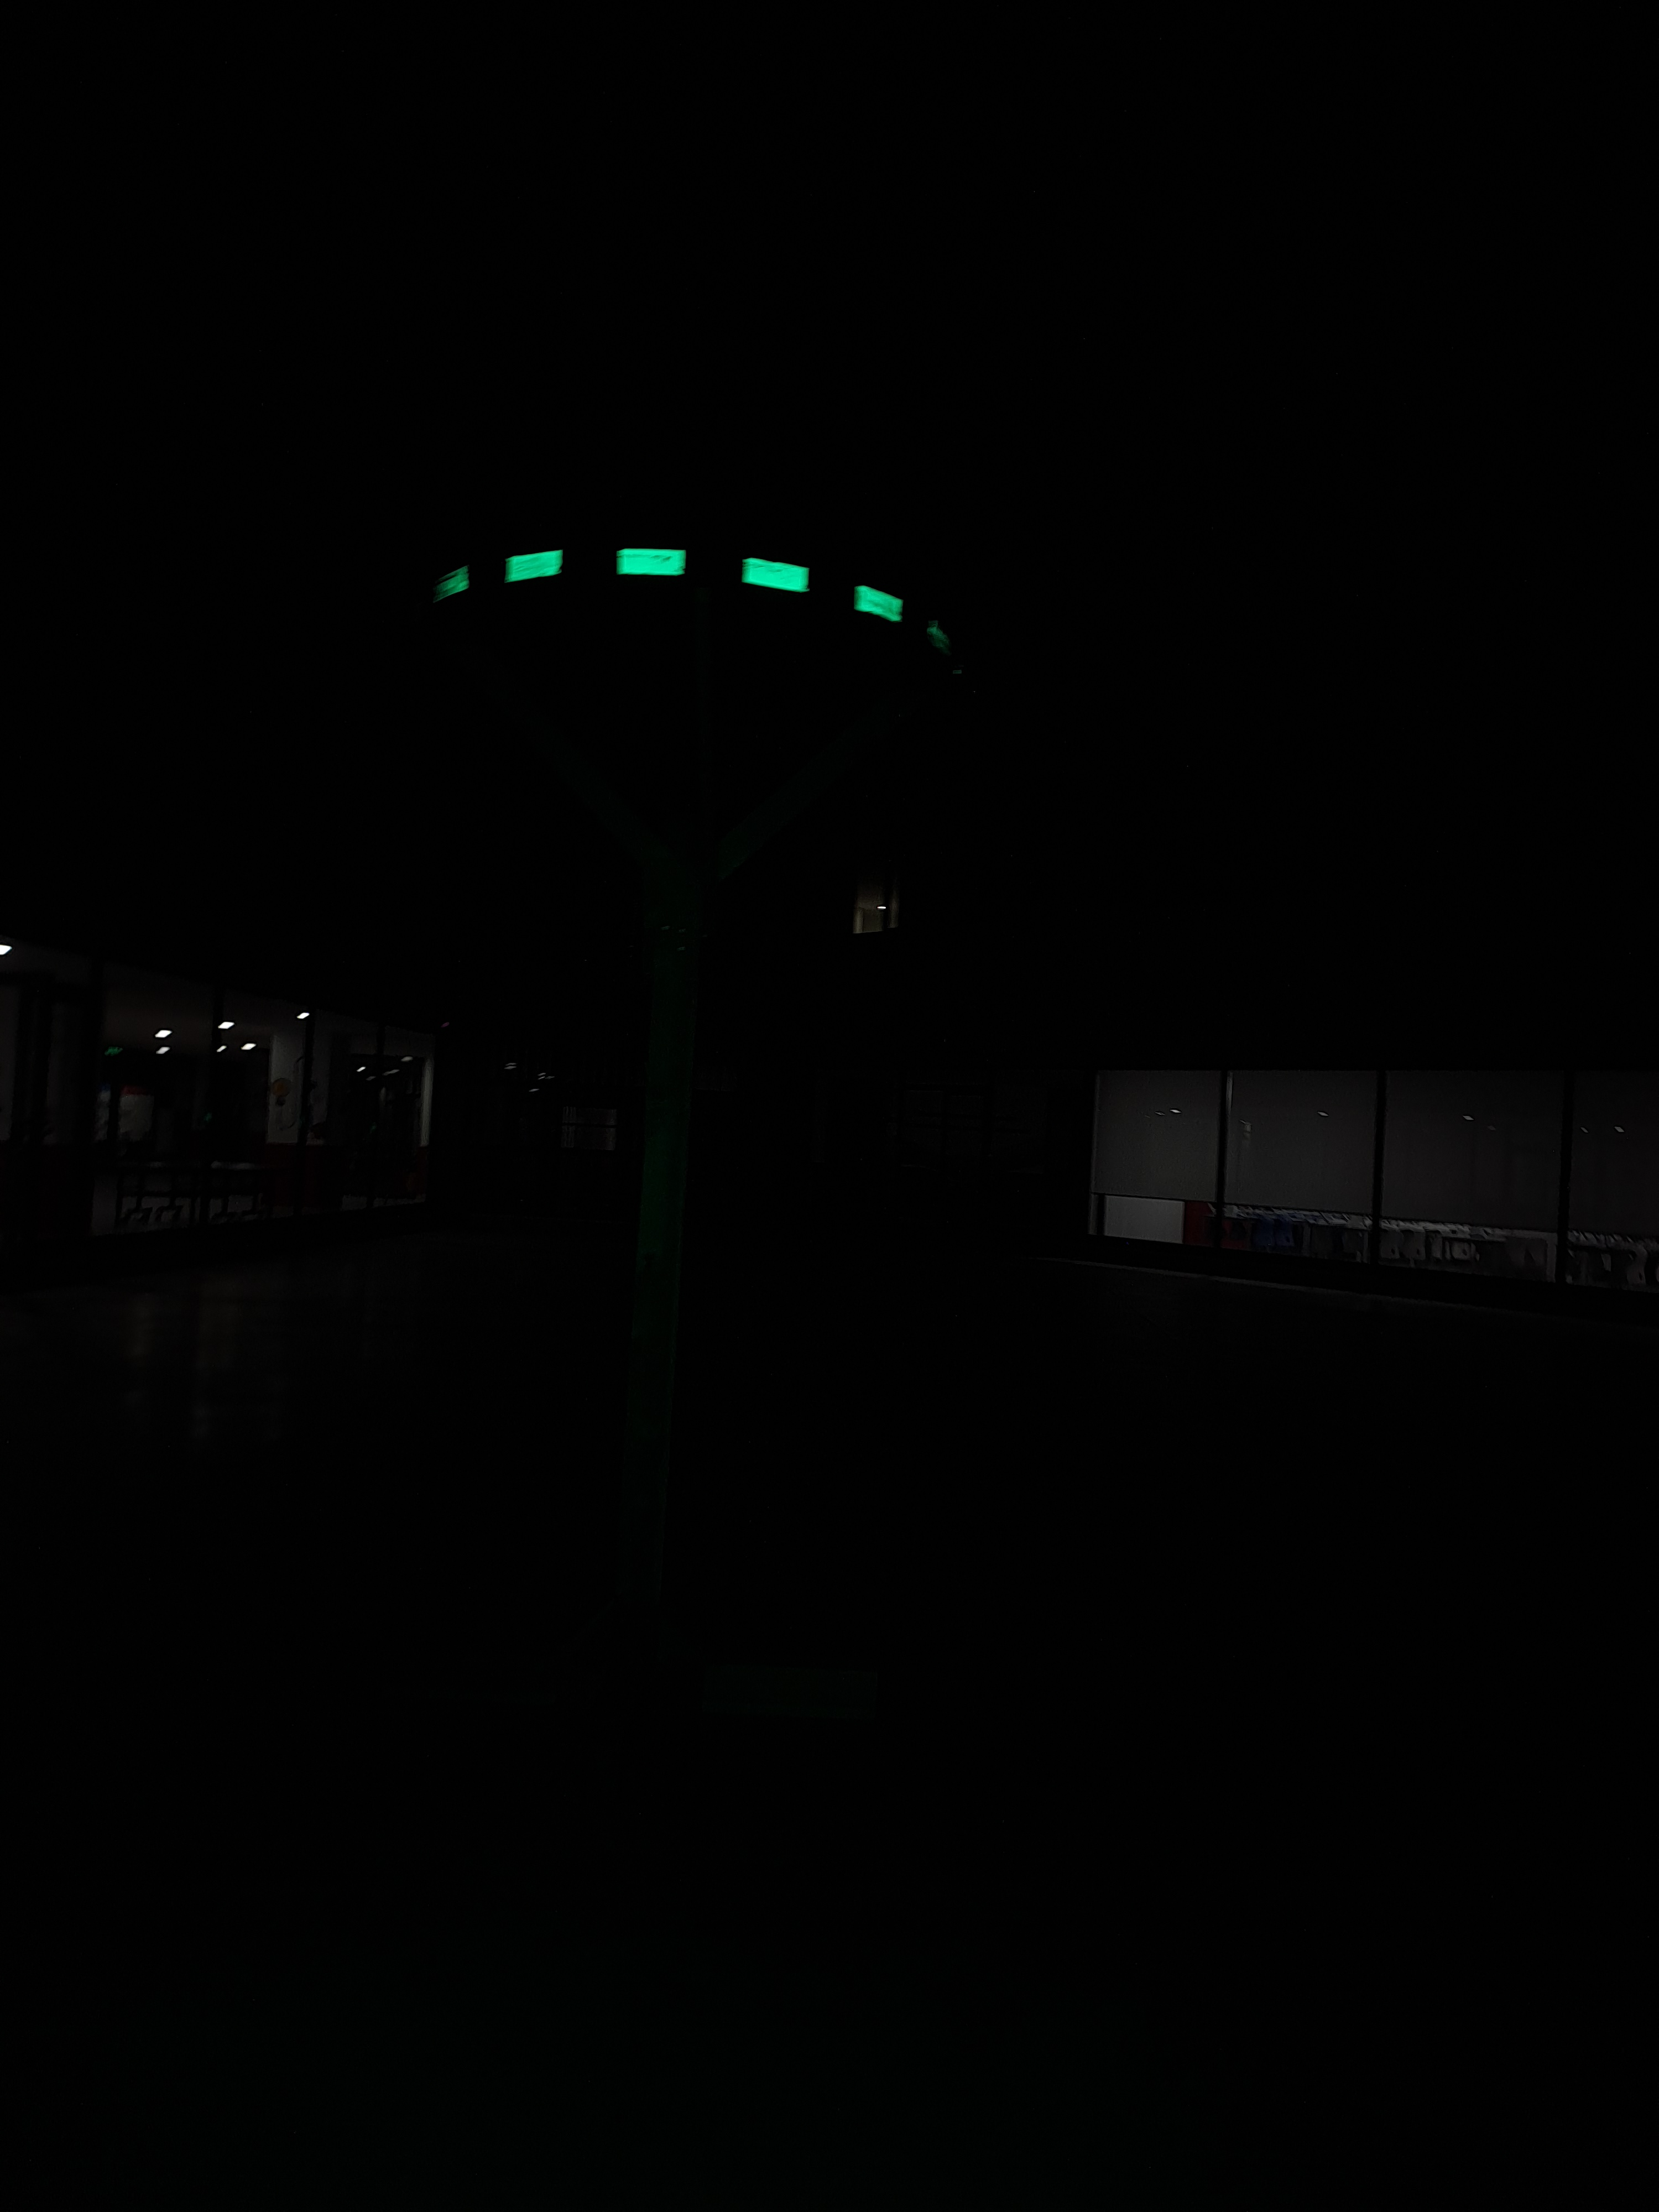hoop: (434, 521, 910, 643)
